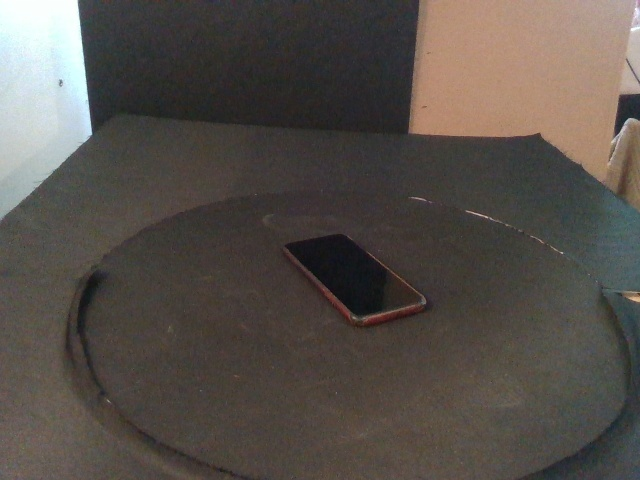phone: (283, 232, 430, 328)
